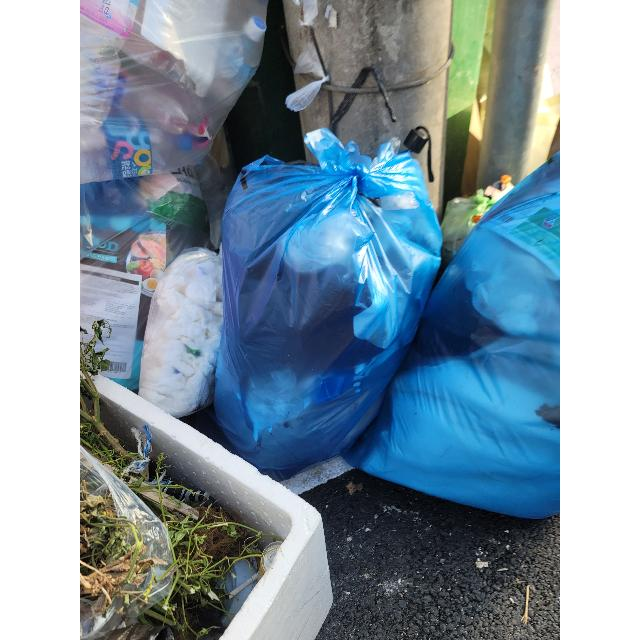other_trashbag: (80, 2, 293, 390), (355, 139, 560, 507), (218, 142, 437, 475), (126, 245, 222, 422)
